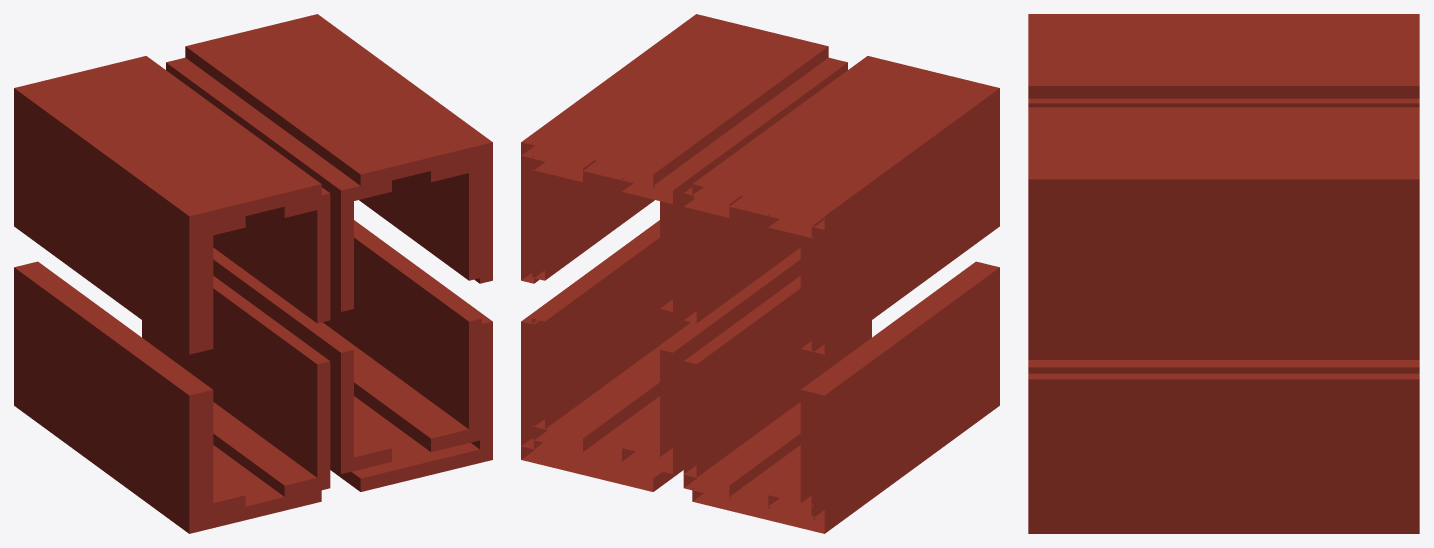
File: construction_1.glb
3 views of the same model, side by side, from view 1: azimuth 30°, elevation 25°; view 2: azimuth 150°, elevation 25°; view 3: azimuth 270°, elevation 25° (orthographic). The views are drawn at different scales.
Visible parts, largest first — view 1: c1; view 2: c1; view 3: c1.
Boxes of the visible parts, x1=… form: c1: x1=14, y1=14, x2=492, y2=533; c1: x1=521, y1=14, x2=999, y2=533; c1: x1=1028, y1=14, x2=1419, y2=533.
Size of the model in its own units: 14 by 14 by 14.
